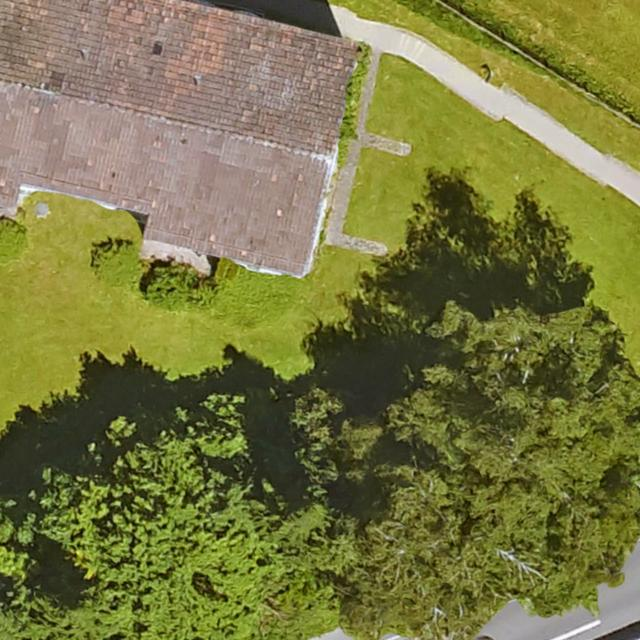tree: (314, 320, 637, 599), (0, 400, 308, 638), (152, 267, 217, 313), (92, 242, 138, 287), (0, 224, 28, 264)
